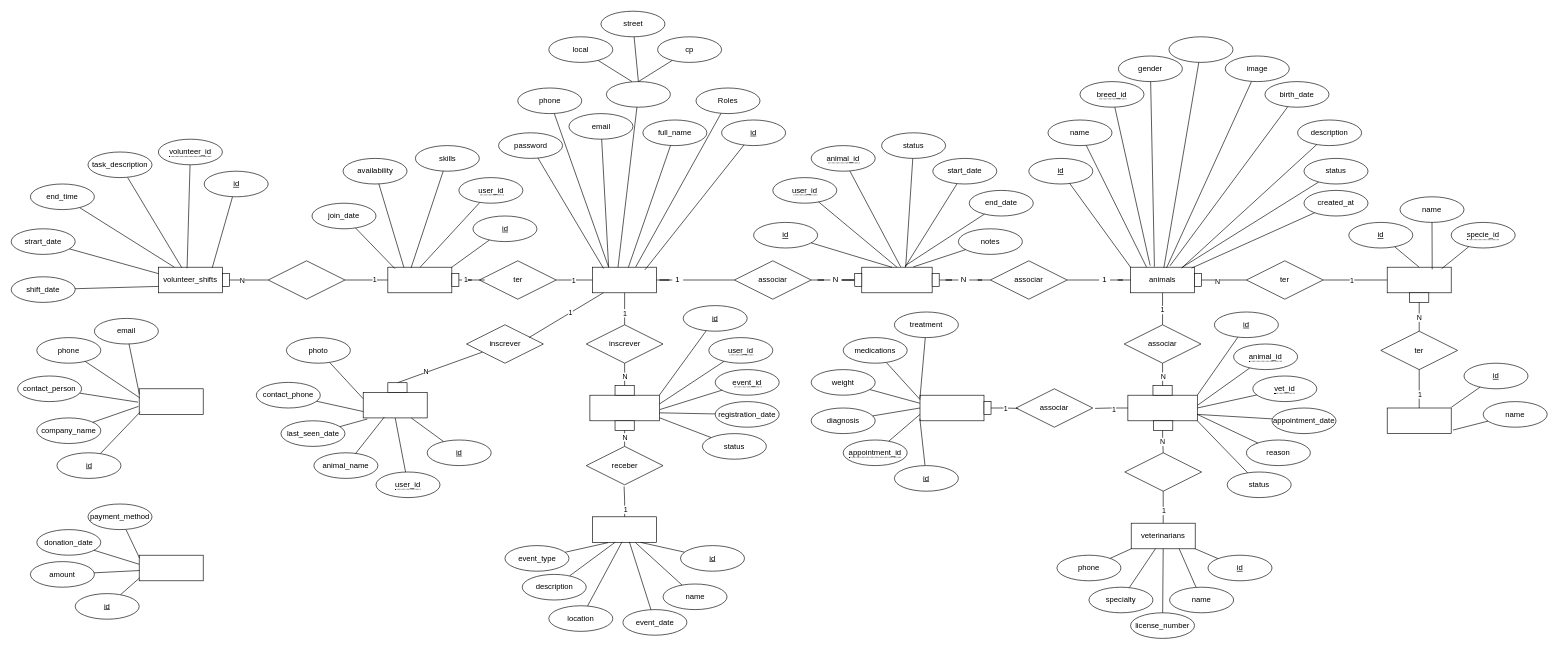
Image size: 1558x650. Some labels were removed from this diagram. The shapes that lost their labels are listed below. From the top down, each one's centre as x and y in pixels, then its label:
At (1200,49): "size".
At (638,94): "adress".
At (306,279): "cumprir".
At (419,280): "volunteer_profiles".
At (624,280): "users".
At (896,280): "adoption_process".
At (1419,280): "breeds".
At (171,401): "partners".
At (395,405): "lost_animals".
At (624,408): "event_registrations".
At (951,408): "medical_history".
At (1162,408): "appointments".
At (1419,420): "species".
At (1163,471): "realizar".
At (624,529): "events".
At (171,568): "donations".
